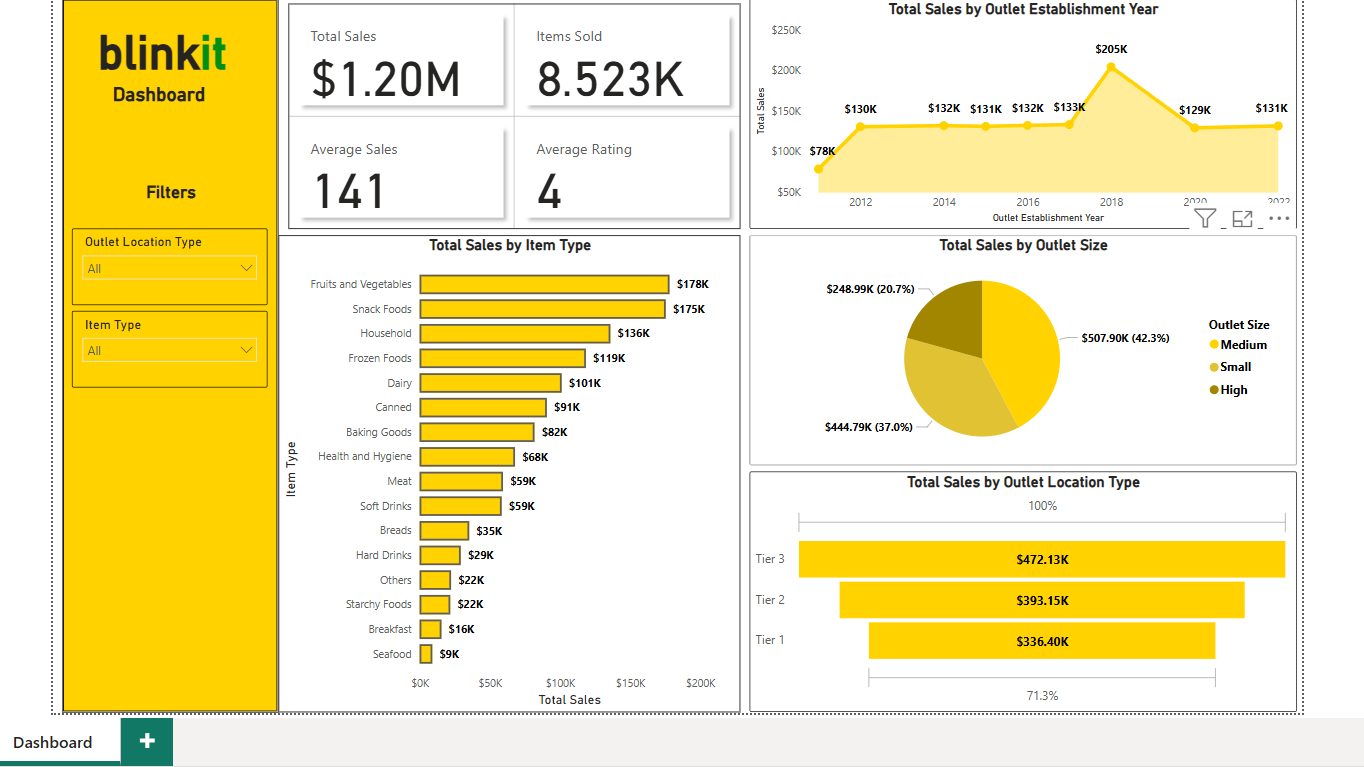

What the dashboard file says about the page in this screenshot:
{"tool":"powerbi","page":{"name":"Dashboard","canvas":[1400,800],"ordinal":0},"visuals":[{"type":"shape","box":[10.2,0,242.2,800],"z":0},{"type":"textbox","box":[45.4,24.2,166.5,86.3],"z":1000},{"type":"textbox","box":[62.1,89.3,125.6,40.9],"z":2000},{"type":"cardVisual","fields":{"Data":["Blinkit Grocery Data.Total Sales","Blinkit Grocery Data.Items Sold","Blinkit Grocery Data.Average Sales","Blinkit Grocery Data.Average Rating"]},"box":[258.8,0,517.6,264.9],"z":3000},{"type":"barChart","fields":{"Category":["Blinkit Grocery Data.Item Type"],"Y":["Blinkit Grocery Data.Total Sales"]},"box":[253,265,518,535],"z":4000},{"type":"lineChart","fields":{"Category":["Blinkit Grocery Data.Outlet Establishment Year"],"Y":["Blinkit Grocery Data.Total Sales"]},"box":[781,0,613,258],"z":5000},{"type":"pieChart","fields":{"Y":["Blinkit Grocery Data.Total Sales"],"Category":["Blinkit Grocery Data.Outlet Size"]},"box":[781,264.9,613,258],"z":6000},{"type":"funnel","fields":{"Y":["Blinkit Grocery Data.Total Sales"],"Category":["Blinkit Grocery Data.Outlet Location Type"]},"box":[781,529.7,613,269.4],"z":7000},{"type":"slicer","fields":{"Values":["Blinkit Grocery Data.Outlet Location Type"]},"box":[21.2,257.3,219.5,86.3],"z":8000},{"type":"slicer","fields":{"Values":["Blinkit Grocery Data.Item Type"]},"box":[21.2,349.6,219.5,86.3],"z":9000},{"type":"textbox","box":[92.3,199.8,80.2,43.9],"z":10000}]}

Visuals, with their boxes on the page's 1400x800 design canvas (x1, y1, x2, y2). These are canvas units, not pixel positions in the 1364x767 screenshot, which may show the page scaled, cropped or inside an application window:
shape: box=[10, 0, 252, 800]
textbox: box=[45, 24, 212, 110]
textbox: box=[62, 89, 188, 130]
cardVisual - Blinkit Grocery Data.Total Sales x Blinkit Grocery Data.Items Sold: box=[259, 0, 776, 265]
barChart - Blinkit Grocery Data.Item Type x Blinkit Grocery Data.Total Sales: box=[253, 265, 771, 800]
lineChart - Blinkit Grocery Data.Outlet Establishment Year x Blinkit Grocery Data.Total Sales: box=[781, 0, 1394, 258]
pieChart - Blinkit Grocery Data.Total Sales x Blinkit Grocery Data.Outlet Size: box=[781, 265, 1394, 523]
funnel - Blinkit Grocery Data.Total Sales x Blinkit Grocery Data.Outlet Location Type: box=[781, 530, 1394, 799]
slicer - Blinkit Grocery Data.Outlet Location Type: box=[21, 257, 241, 344]
slicer - Blinkit Grocery Data.Item Type: box=[21, 350, 241, 436]
textbox: box=[92, 200, 172, 244]
